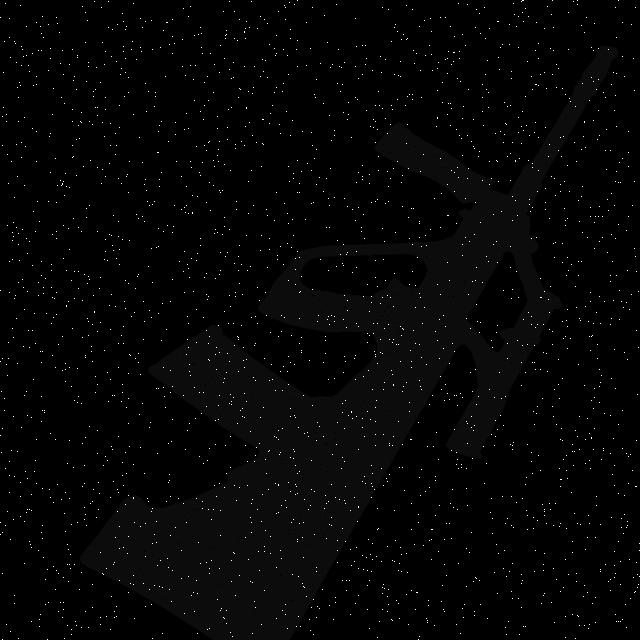firearm: (43, 16, 640, 640)
